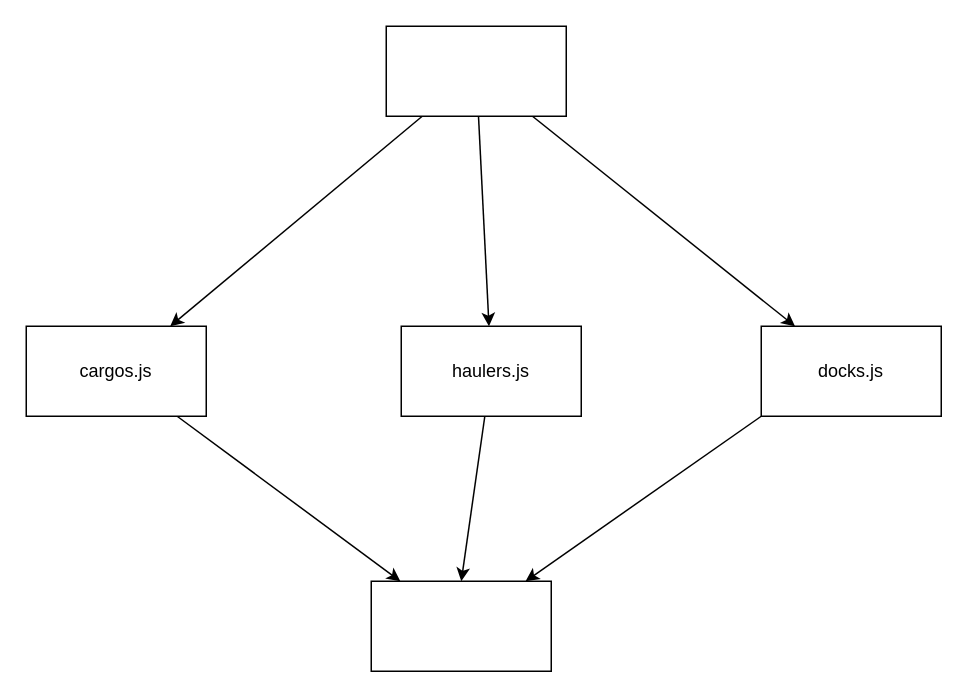
The diagram is 968 pixels wide and 698 high, and some of its shapes have lost their labels. The shapes that lost their labels are listed below. From the top down, each one's box as (x1, y1, x2, y2) in pixels, then its label:
(385, 25, 566, 116): database.js
(370, 580, 551, 671): main.js
